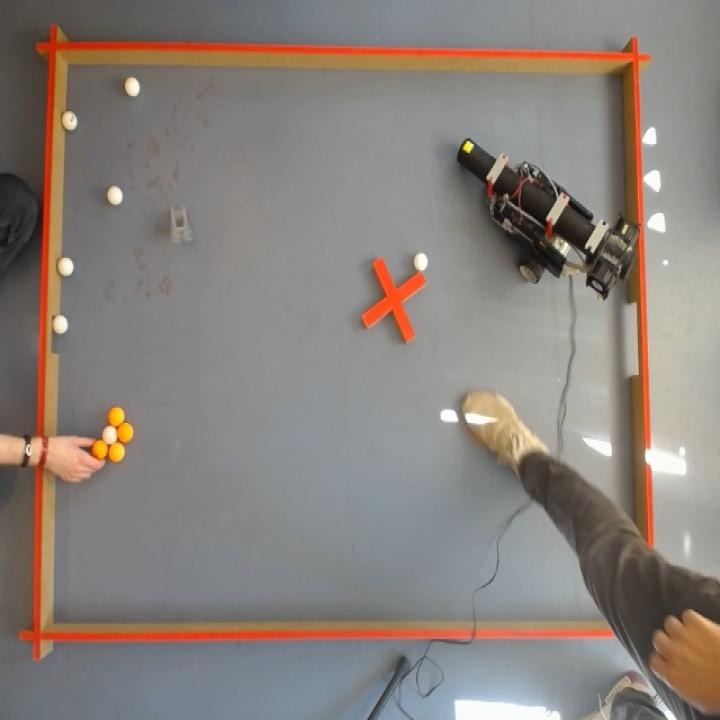orange: (90, 438, 109, 459), (118, 421, 136, 443), (108, 440, 125, 463), (107, 405, 125, 425)
robot: (458, 138, 640, 298)
robot-front: (457, 138, 491, 179)
white: (56, 256, 75, 279), (124, 75, 142, 99), (106, 184, 124, 208), (61, 110, 80, 132), (100, 423, 119, 445), (414, 249, 430, 273), (52, 315, 69, 335)
